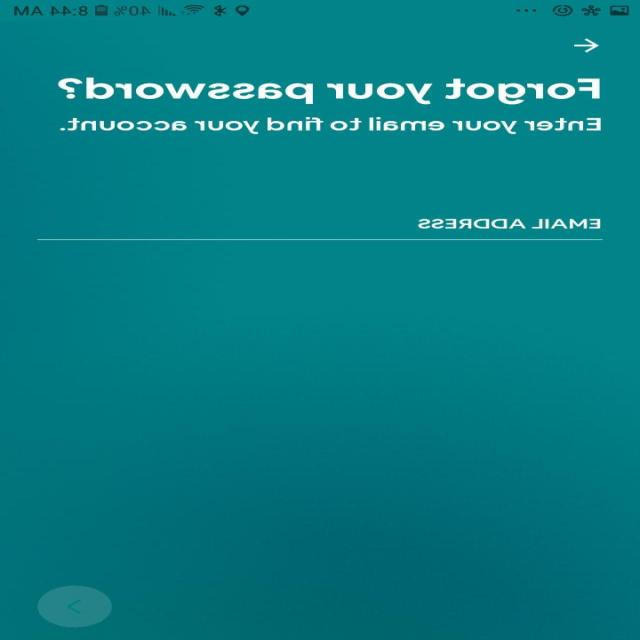EditText: (37, 218, 603, 240)
Icon: (37, 584, 114, 628), (573, 38, 600, 53)
Text: (58, 77, 601, 105), (59, 116, 602, 134), (419, 218, 601, 229)
